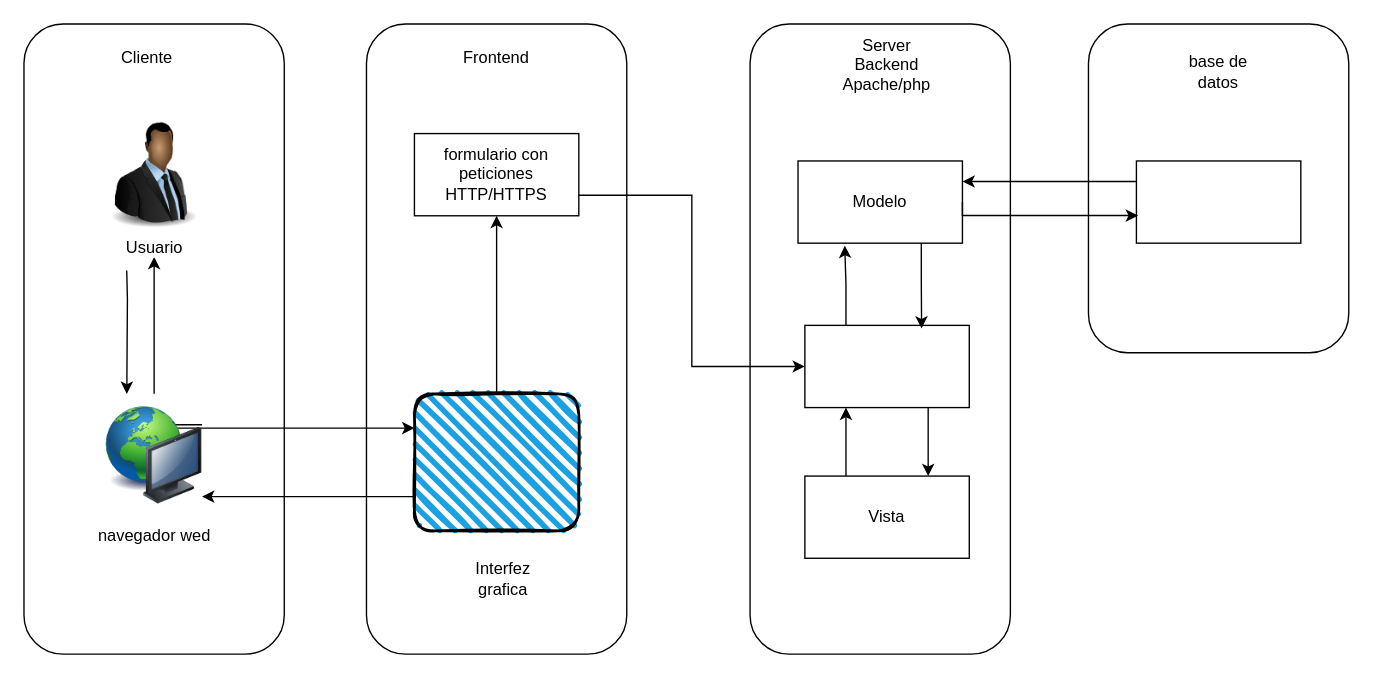
This 1373x678 diagram has some shape labels left out. The centre of each missing label's shape, as x and y in pixels:
"Controlador" goes at (886,366).
"MySQL" goes at (1218,201).
